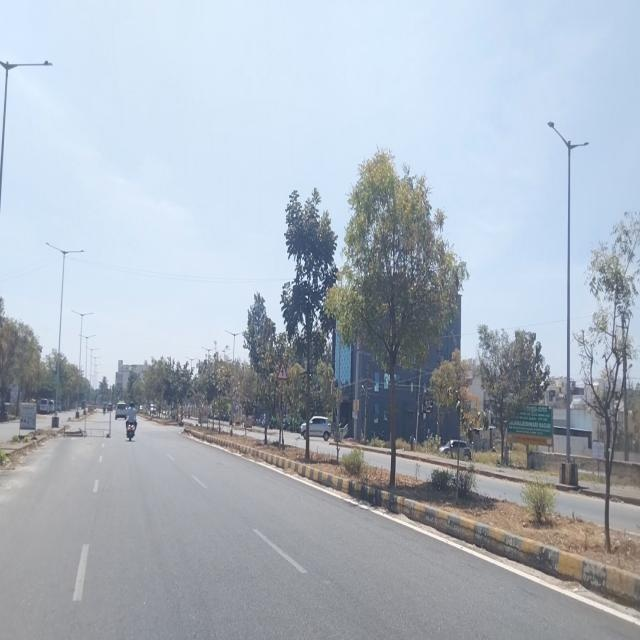bien_nguy_hiem: (277, 361, 288, 380)
